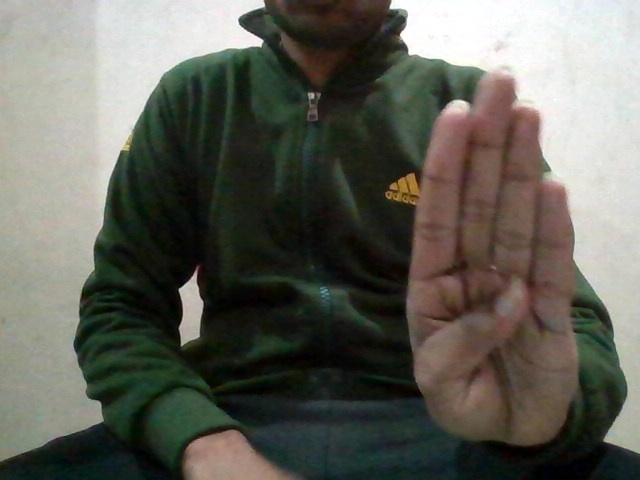B: (400, 58, 590, 451)
